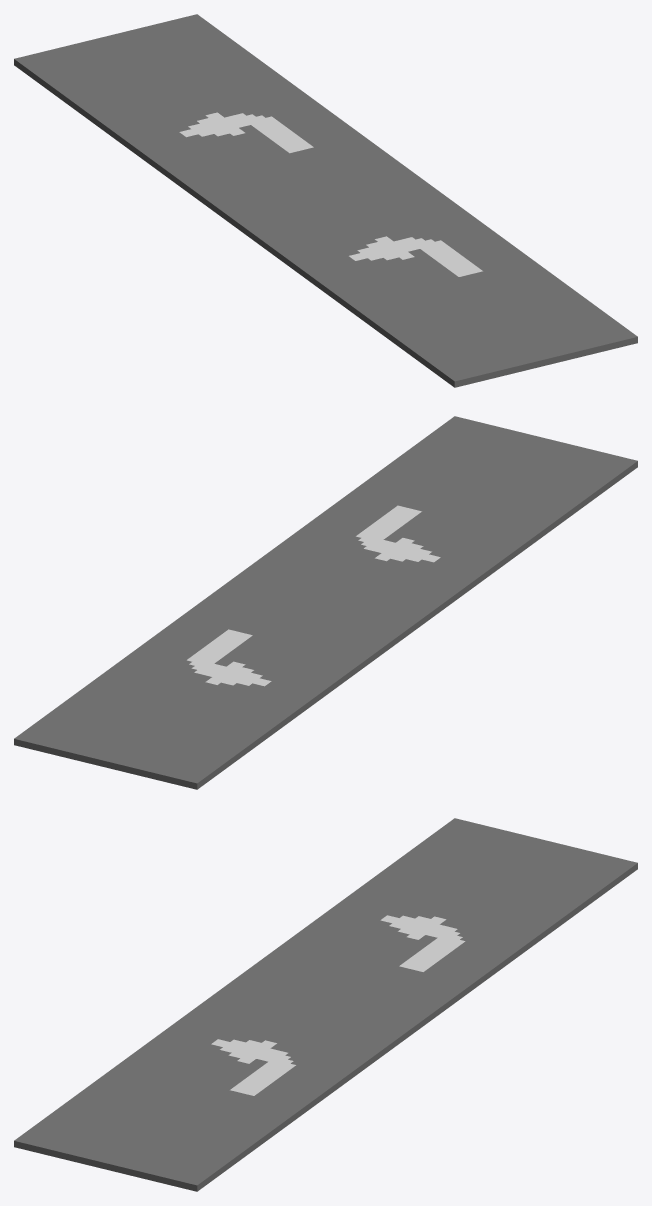
Rendered from turn-lane-left.obj.
The picture shows the model from 3 angles, top to bottom: view 1: azimuth 30°, elevation 25°; view 2: azimuth 150°, elevation 25°; view 3: azimuth 330°, elevation 25°; orthographic projection.
Bounding box in the file's own units: 30 × 1 × 125.
